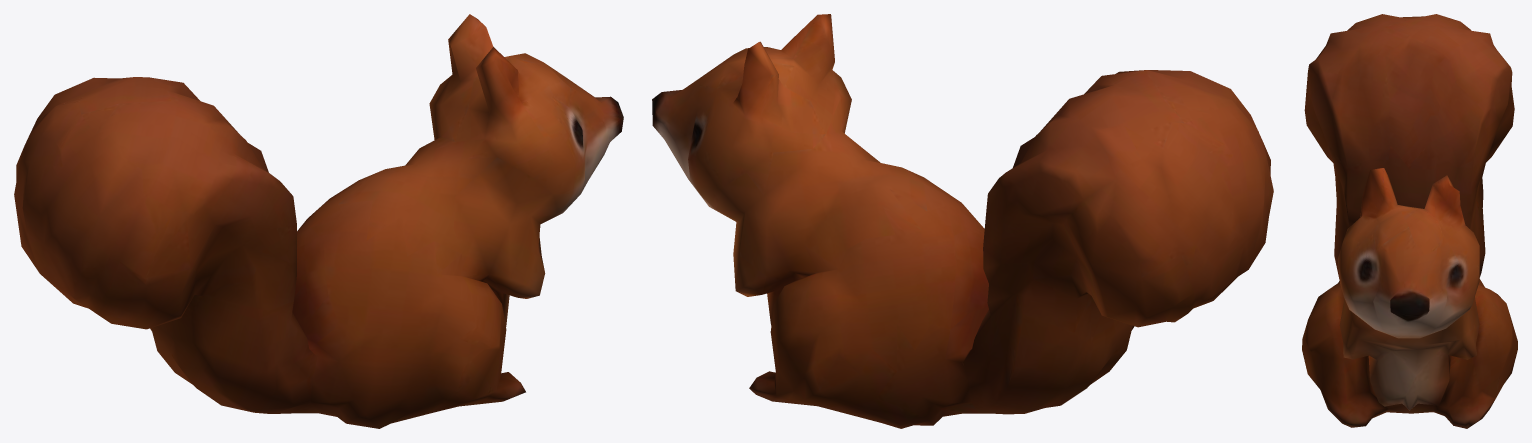
File: squirrel.glb
3 views of the same model, side by side, from view 1: azimuth 30°, elevation 25°; view 2: azimuth 150°, elevation 25°; view 3: azimuth 270°, elevation 25° (orthographic). The views are drawn at different scales.
Visible parts, largest first — view 1: tripo_node_01a21ca2-af8c-7c22-8b93-c39d69ad4627; view 2: tripo_node_01a21ca2-af8c-7c22-8b93-c39d69ad4627; view 3: tripo_node_01a21ca2-af8c-7c22-8b93-c39d69ad4627.
Part boxes in pixels (bbox=[...]): tripo_node_01a21ca2-af8c-7c22-8b93-c39d69ad4627: bbox=[14, 14, 623, 428]; tripo_node_01a21ca2-af8c-7c22-8b93-c39d69ad4627: bbox=[652, 14, 1273, 428]; tripo_node_01a21ca2-af8c-7c22-8b93-c39d69ad4627: bbox=[1302, 14, 1517, 428].
Size of the model in its own units: 0.4 by 0.2355 by 0.1659.
Materials: 1 (1 with a texture image).
